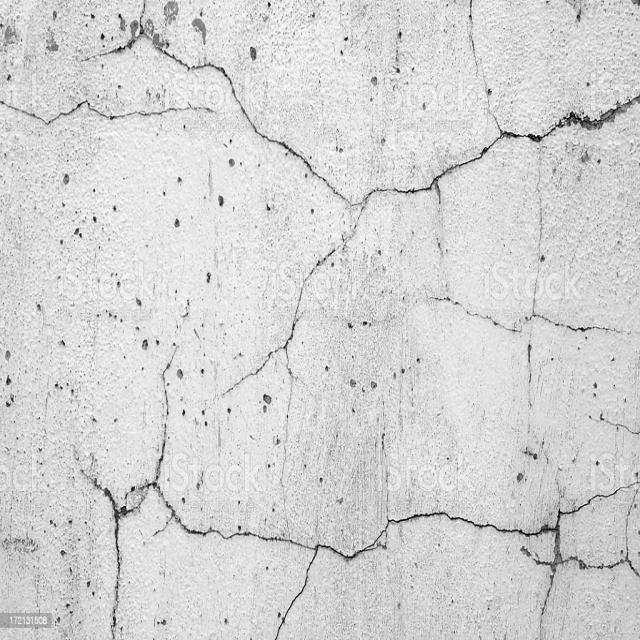Wall_Cracks: (4, 6, 634, 634)
